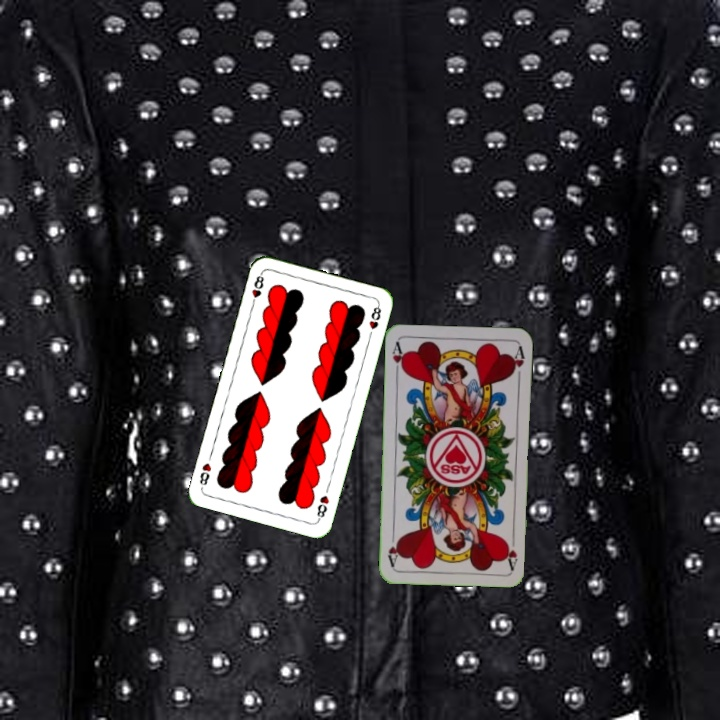H8: (248, 269, 266, 309), (313, 491, 332, 523)
HA: (388, 339, 407, 379), (503, 531, 520, 571)
